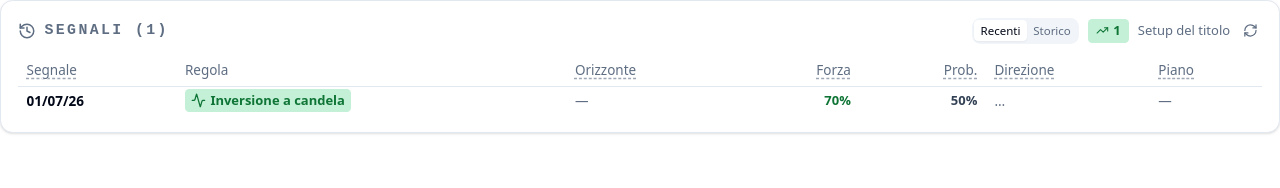
Test case: StockAlertsHistoryCard › la paginazione avanza e l'offset torna a zero cambiando scheda
What coordinates should you click on to do the following:
click the button "Storico"
I would click on:
 (1052, 31)
Its box is [1027, 20, 1077, 41].
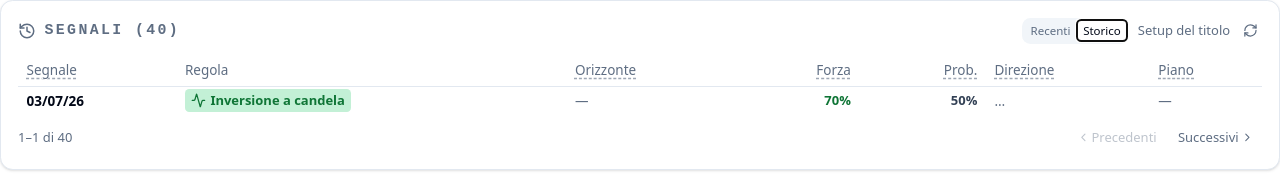
Expected: the text "1–1 di 40" is shown, [18, 128, 72, 148]
What coordinates should you click on to do the following:
click the button "Successivi"
I would click on:
 (1216, 138)
Its box is [1169, 124, 1262, 152].
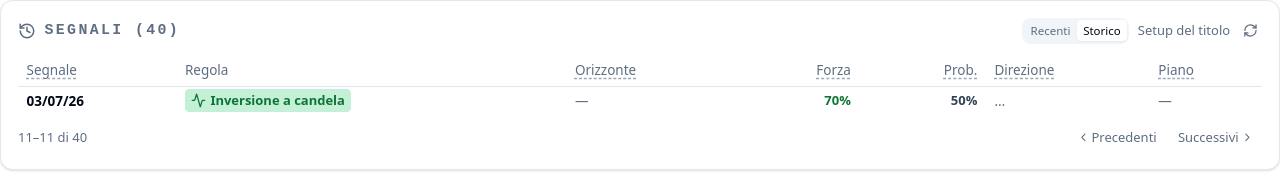
Expected: the text "11–11 di 40" is shown, [18, 128, 87, 148]
What coordinates should you click on to do the following:
click the button "Recenti"
I would click on:
 (1050, 31)
Its box is [1024, 20, 1077, 41].
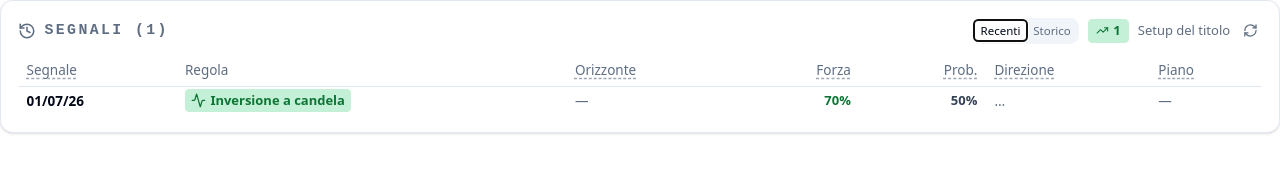
What coordinates should you click on to do the following:
click the button "Storico"
I would click on:
 (1052, 31)
Its box is [1027, 20, 1077, 41].
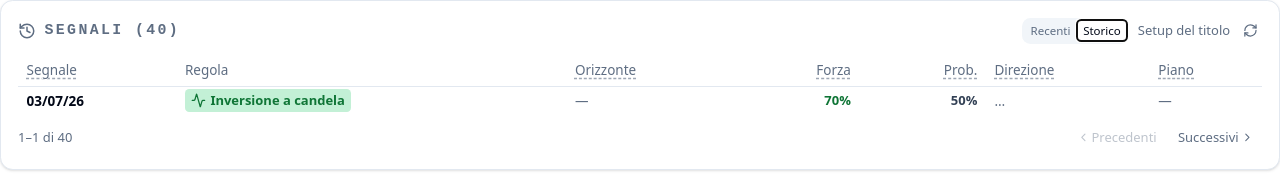
Expected: the text "1–1 di 40" is shown, [18, 128, 72, 148]
